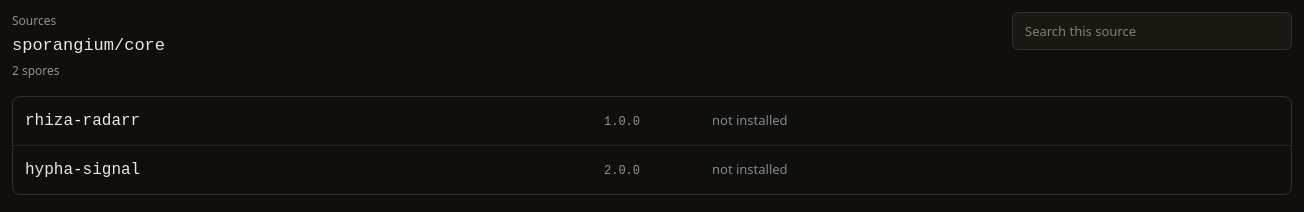
Test case: finding a spore in a source › filters the listing client-side on what is typed
Expected: the link "rhiza-radarr" is shown, [25,112,140,130]
In the search field: (1152, 31) [1012,12,1292,50], type "signal"
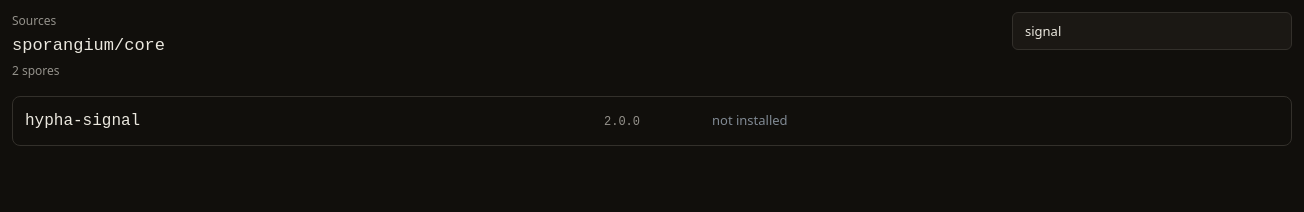
Expected: the link "hypha-signal" is shown, [25,112,140,130]
Expected: the link "rhiza-radarr" is gone
